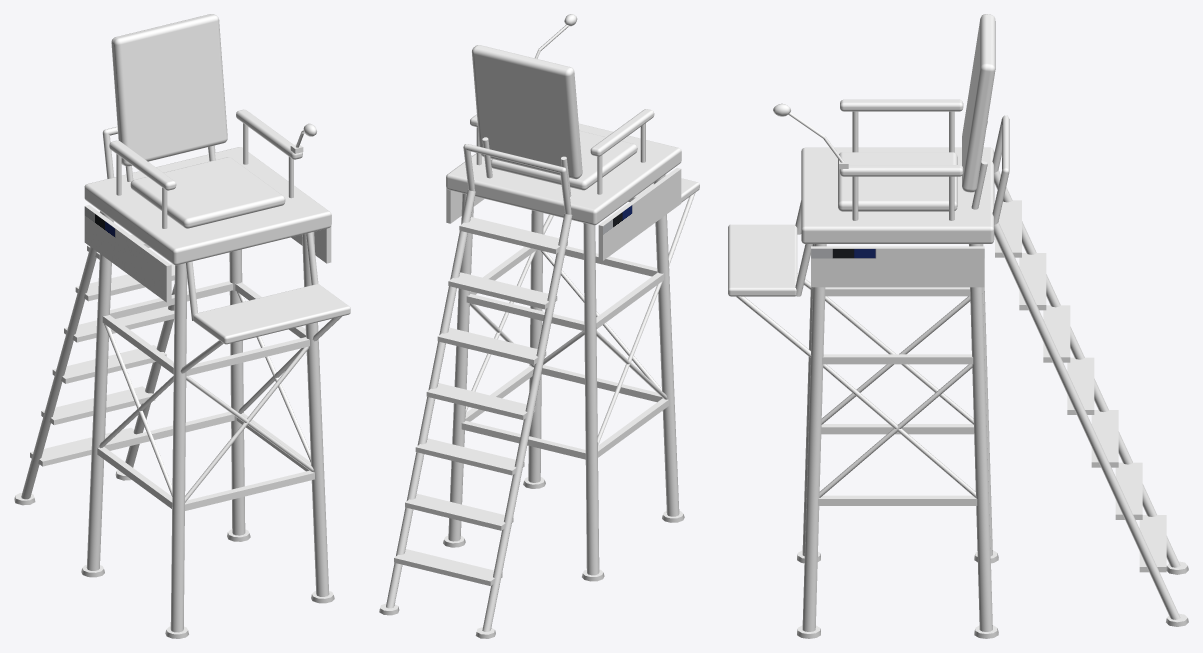
Rendered from SillaJuez.obj.
The picture shows the model from 3 angles, left to right: view 1: azimuth 30°, elevation 25°; view 2: azimuth 150°, elevation 25°; view 3: azimuth 270°, elevation 25°; orthographic projection. The views are drawn at different scales.
Parts seen in each view (by area): view 1: SillaJuez; view 2: SillaJuez; view 3: SillaJuez.
Boxes of the visible parts, x1,y1,x2,y2 form: SillaJuez: [14, 14, 350, 638]; SillaJuez: [379, 14, 699, 638]; SillaJuez: [728, 14, 1188, 638].
Size of the model in its own units: 1.05 by 3.2 by 2.39.
Materials: 1 (1 with a texture image).
